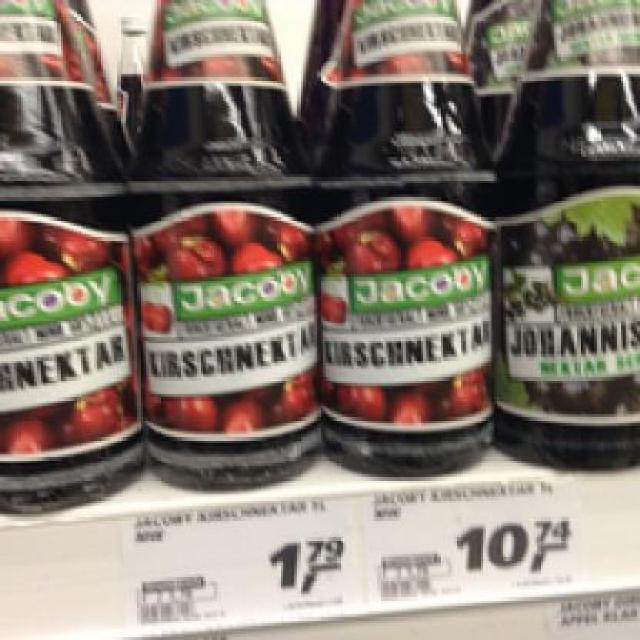Juice: (126, 0, 326, 489), (301, 0, 495, 475), (0, 0, 141, 515), (487, 0, 638, 475)
